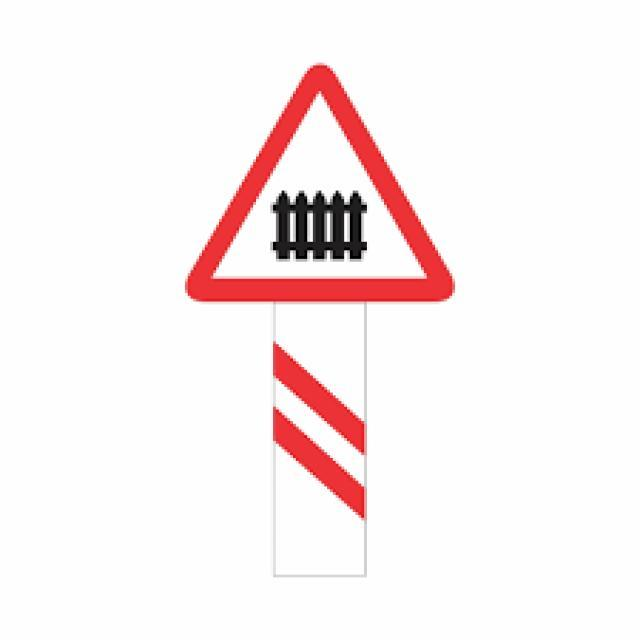guarded level crossing: (180, 60, 456, 305)
